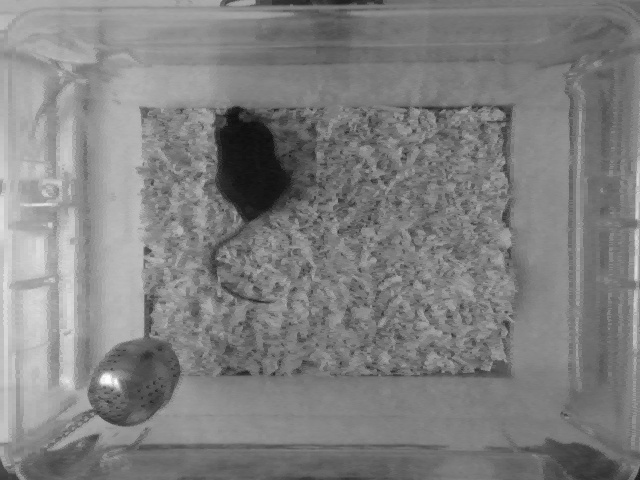mice: (202, 102, 288, 306)
